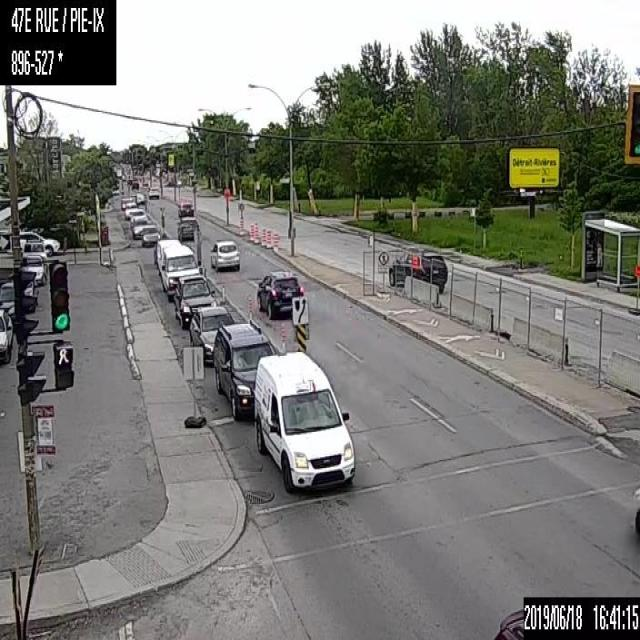construction: (281, 326, 285, 354), (249, 222, 254, 241), (272, 233, 277, 252), (266, 228, 271, 247), (253, 221, 258, 239), (260, 226, 265, 243), (248, 298, 252, 318), (221, 283, 224, 305), (203, 267, 206, 280)
vehicle: (256, 347, 354, 499), (211, 321, 275, 423), (388, 243, 447, 292), (187, 306, 233, 368), (156, 240, 199, 302), (256, 267, 304, 320), (174, 274, 217, 327), (14, 229, 61, 256), (210, 239, 240, 271), (493, 606, 522, 638), (19, 253, 46, 286), (0, 308, 14, 364), (0, 280, 14, 329), (176, 217, 200, 241), (631, 480, 639, 543), (142, 223, 160, 247), (132, 215, 149, 238), (130, 208, 146, 226), (177, 199, 193, 215), (124, 202, 138, 219), (120, 197, 132, 210), (136, 192, 147, 206), (147, 187, 159, 199)
